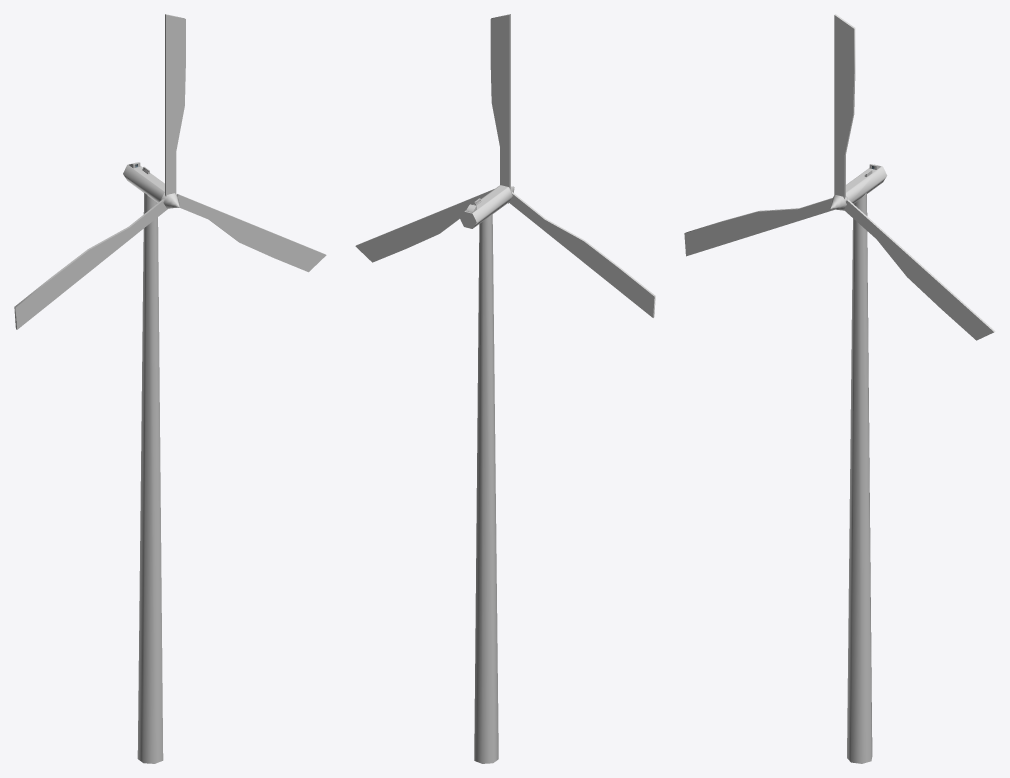
The model's file is aerogenerador01.fbx.
3 renders of one model, left to right at view 1: azimuth 30°, elevation 25°; view 2: azimuth 150°, elevation 25°; view 3: azimuth 330°, elevation 25°, orthographic. The views are drawn at different scales.
Parts seen in each view (by area): view 1: Cilindro, aspa_1, aspa_2, aspa, base; view 2: Cilindro, aspa_1, aspa_2, aspa, base; view 3: Cilindro, aspa, aspa_2, aspa_1, base.
Boxes of the visible parts, box(x1,y1,x2,y2) form: Cilindro: box(137, 193, 163, 763); aspa_1: box(14, 199, 167, 329); aspa_2: box(165, 14, 185, 196); aspa: box(177, 194, 326, 272); base: box(123, 162, 164, 202); Cilindro: box(474, 214, 498, 763); aspa_1: box(509, 192, 655, 317); aspa_2: box(490, 14, 510, 189); aspa: box(355, 189, 494, 262); base: box(460, 185, 512, 228); Cilindro: box(847, 193, 872, 763); aspa: box(844, 199, 995, 340); aspa_2: box(834, 14, 855, 198); aspa_1: box(684, 198, 834, 256); base: box(846, 164, 887, 203).
Bounding box in the file's own units: 2570 × 6000 × 689.
4 materials, 3 textured.
